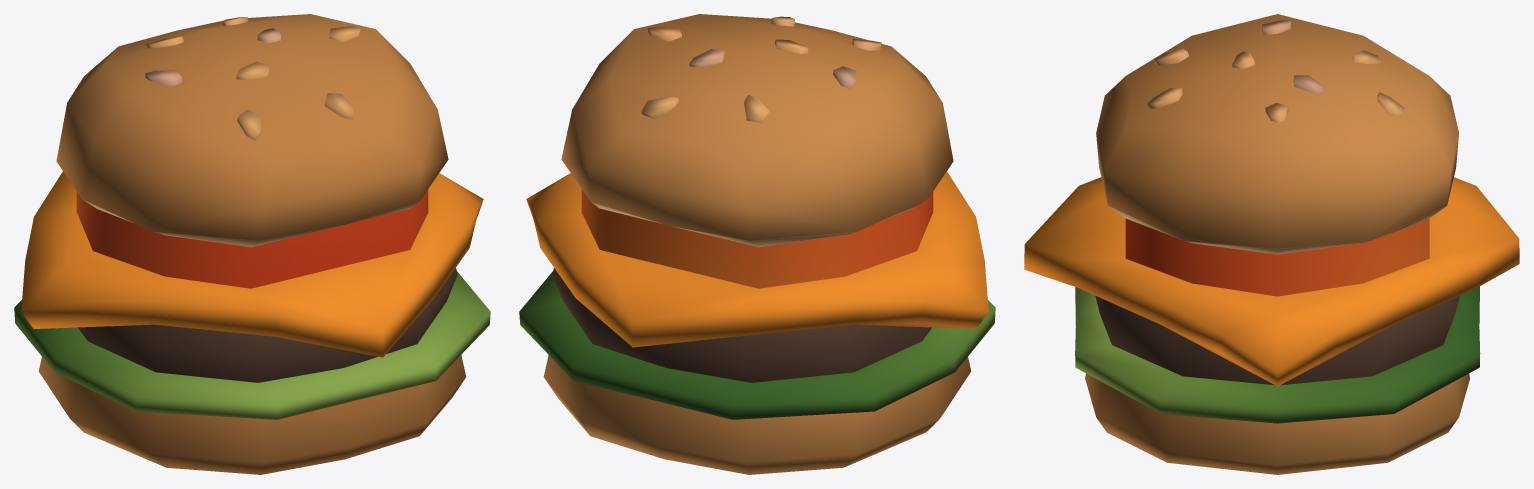
The model's file is Burger_Visual.fbx.
The picture shows the model from 3 angles, left to right: view 1: azimuth 30°, elevation 25°; view 2: azimuth 150°, elevation 25°; view 3: azimuth 270°, elevation 25°; orthographic projection. The views are drawn at different scales.
Visible parts, largest first — view 1: Burger_Visual; view 2: Burger_Visual; view 3: Burger_Visual.
Part boxes in pixels (x1,y1,x2,y2): Burger_Visual: [14, 14, 490, 474]; Burger_Visual: [519, 14, 995, 474]; Burger_Visual: [1024, 14, 1519, 474].
Size of the model in its own units: 19.79 by 13.95 by 18.91.
